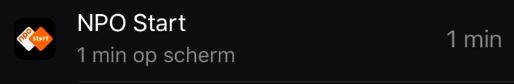name: (67, 1, 196, 39)
time: (73, 39, 131, 71)
